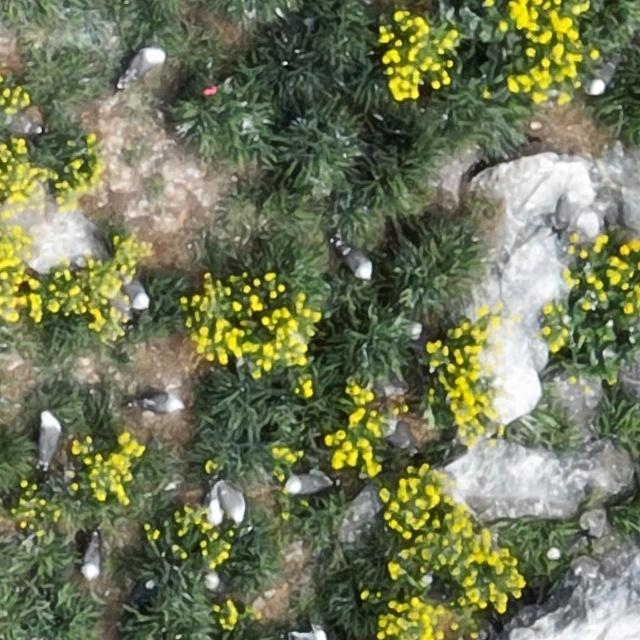umineko: (382, 415, 422, 464), (125, 46, 168, 85), (556, 190, 586, 232), (547, 533, 584, 561), (39, 415, 60, 461), (340, 248, 371, 279), (224, 487, 247, 525), (590, 60, 616, 92), (287, 474, 327, 494), (143, 395, 182, 413), (82, 541, 101, 577), (125, 282, 149, 310), (208, 576, 236, 596)
